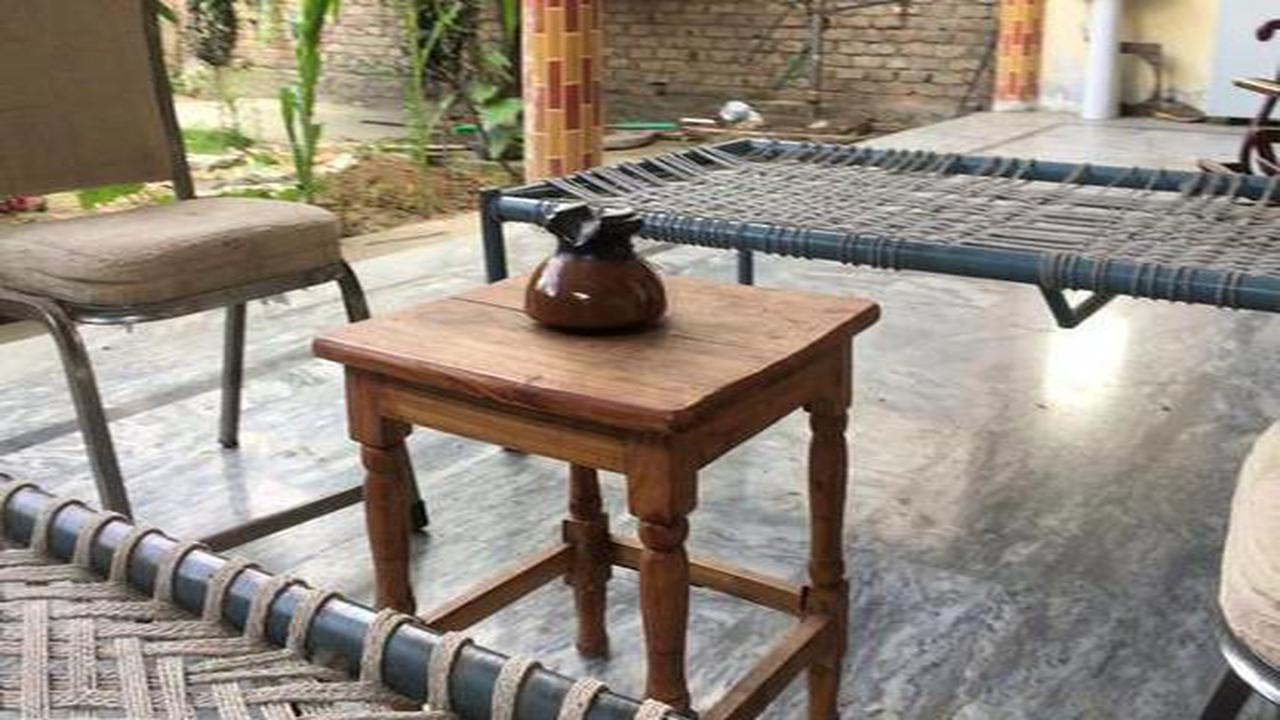insulator_pin: (493, 182, 681, 343)
